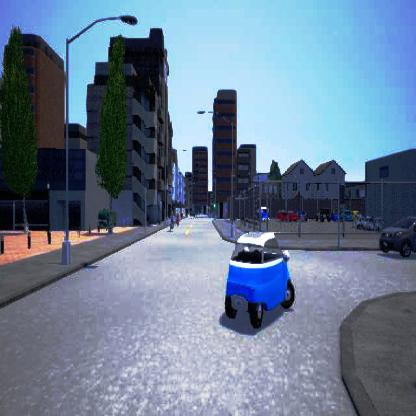bike: (167, 210, 176, 230)
vehicle: (224, 231, 294, 327), (378, 216, 416, 256)
